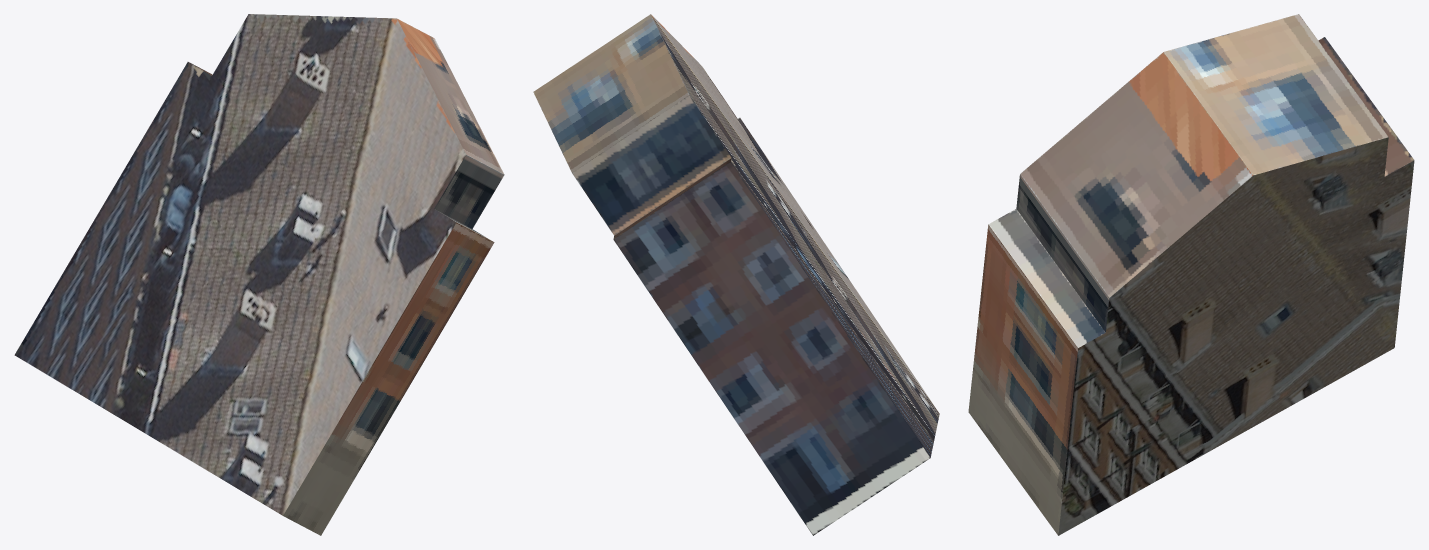
The picture shows the model from 3 angles, left to right: view 1: azimuth 30°, elevation 25°; view 2: azimuth 150°, elevation 25°; view 3: azimuth 270°, elevation 25°; orthographic projection. The views are drawn at different scales.
Parts seen in each view (by area): view 1: BAG_0599100000650052 (×2); view 2: BAG_0599100000650052 (×3); view 3: BAG_0599100000650052 (×3).
Boxes of the visible parts, box(x1,y1,x2,y2) form: BAG_0599100000650052 (×2): box(14, 14, 504, 535); BAG_0599100000650052 (×3): box(533, 14, 939, 535); BAG_0599100000650052 (×3): box(968, 14, 1414, 535).
Size of the model in its own units: 17.41 by 18.55 by 13.52.
Materials: 1 (1 with a texture image).
